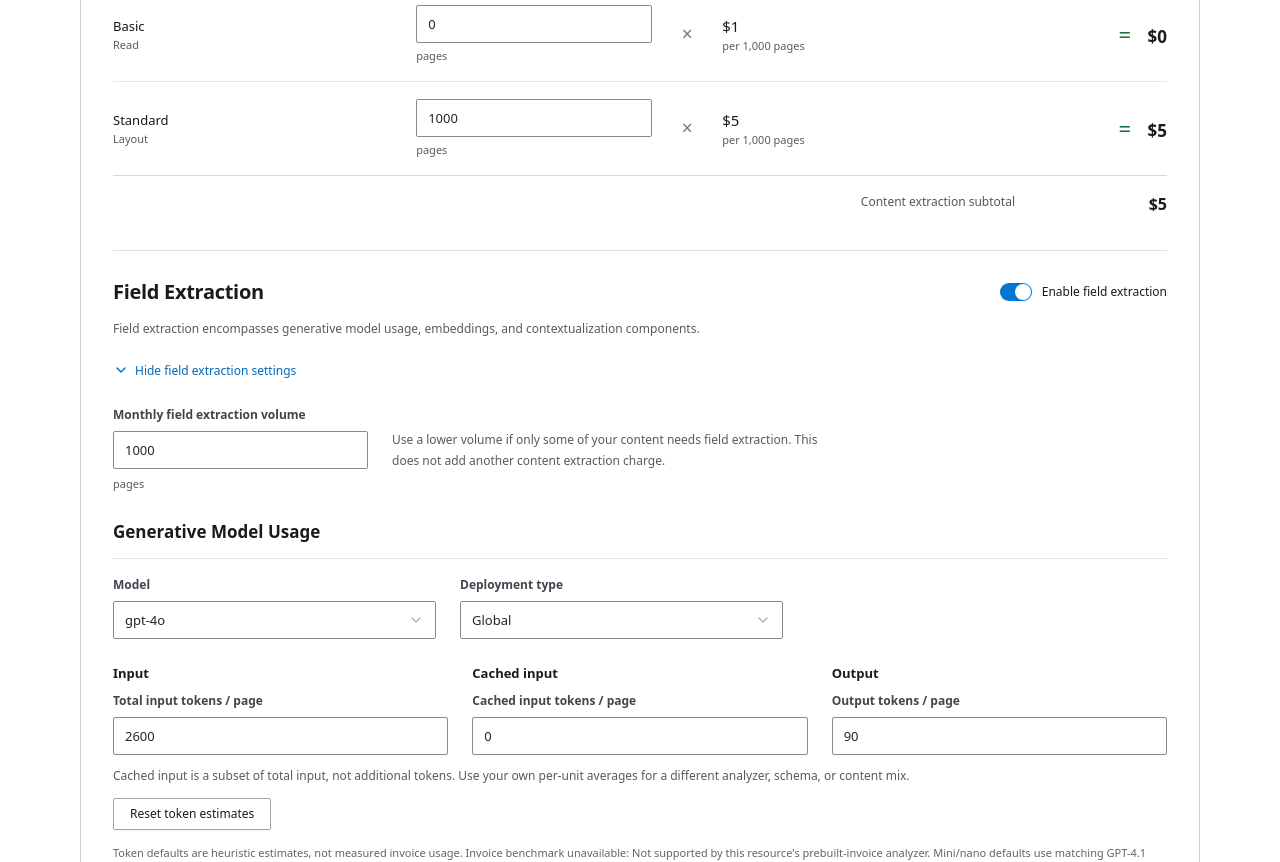
Pricing calculator UI › rejects field volumes greater than content volumes
(page scrolled)
Replace the text in the number field labelled "Monthly field extraction volume" with "2000" at (240, 450), box [113,431,368,469]
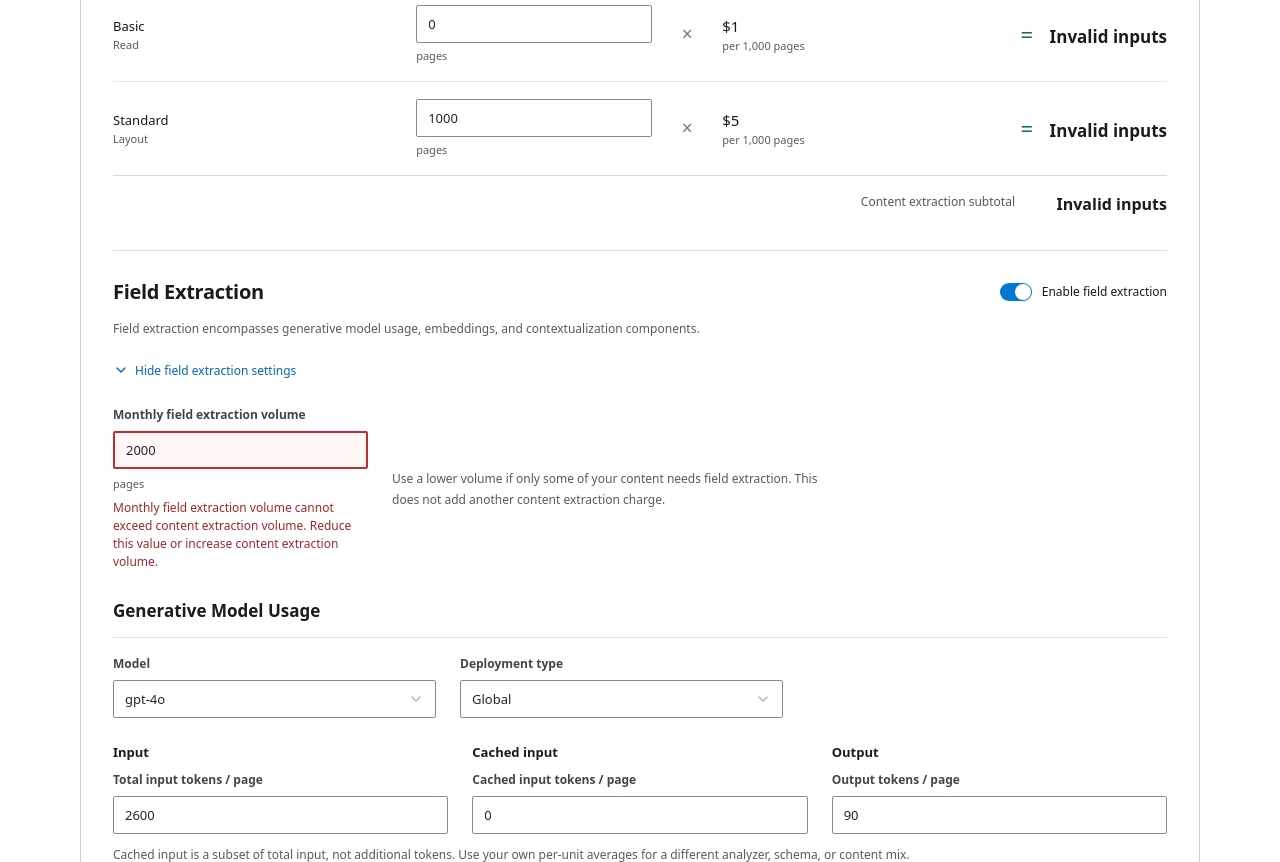
Expected: the text "Estimated Total Cost" is not shown
Expected: the message shows "cannot exceed content extraction volume", [113,499,351,570]
Replace the text in the number field labelled "Monthly field extraction volume" with "1000" at (240, 450), box [113,431,368,469]
(page scrolled)
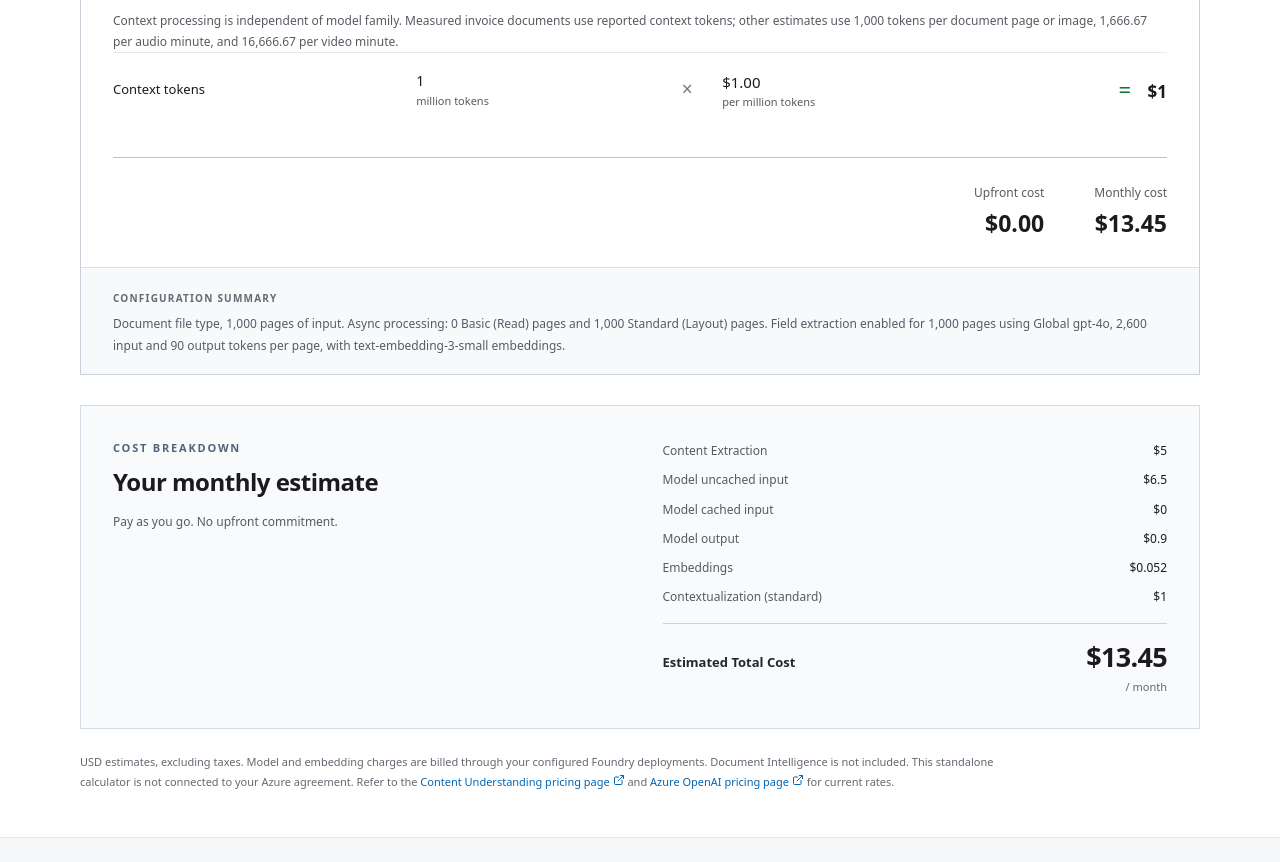
Expected: the message "Monthly field extraction volume cannot exceed content extraction volume. Reduce" is gone
Expected: the text "Estimated Total Cost" is shown, [662,652,795,673]
